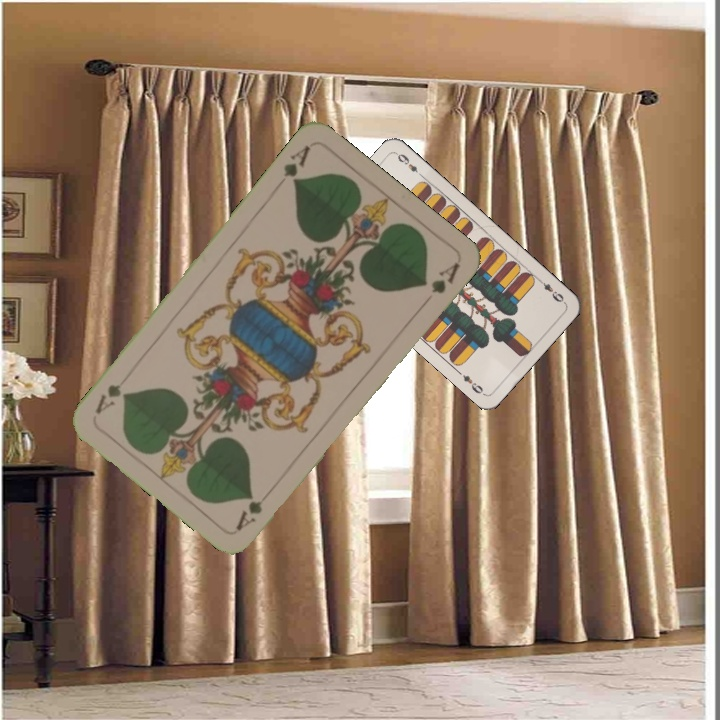E9: (534, 275, 568, 306)
GA: (279, 141, 313, 188), (232, 496, 265, 534)
